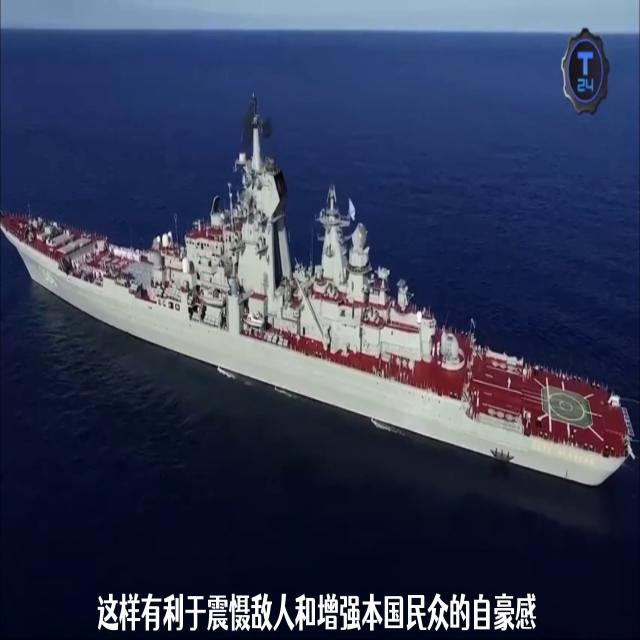navalvessels: (0, 90, 626, 500)
